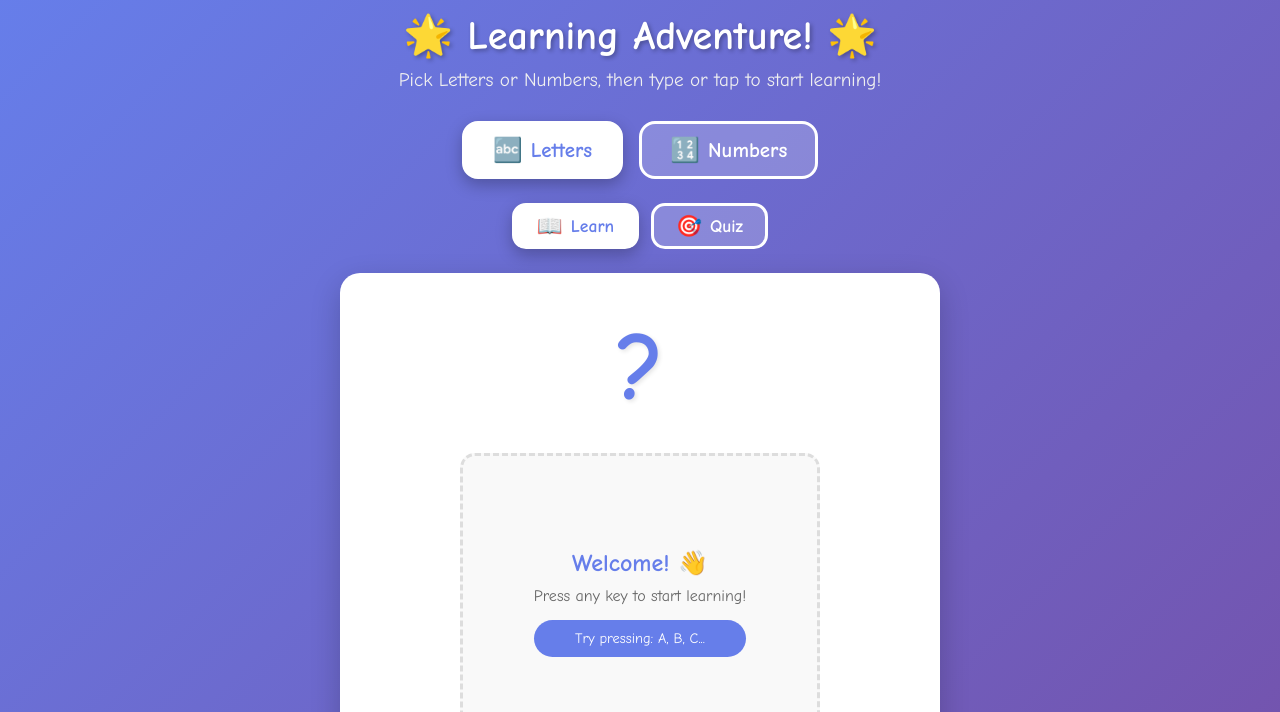
Test: Numbers Learning Mode › Integration — cross-mode and full workflows › mixed keyboard + click interactions accumulate numbers progress
Click the tab "🔢 Numbers".
click(729, 150)  # box [639, 121, 818, 179]
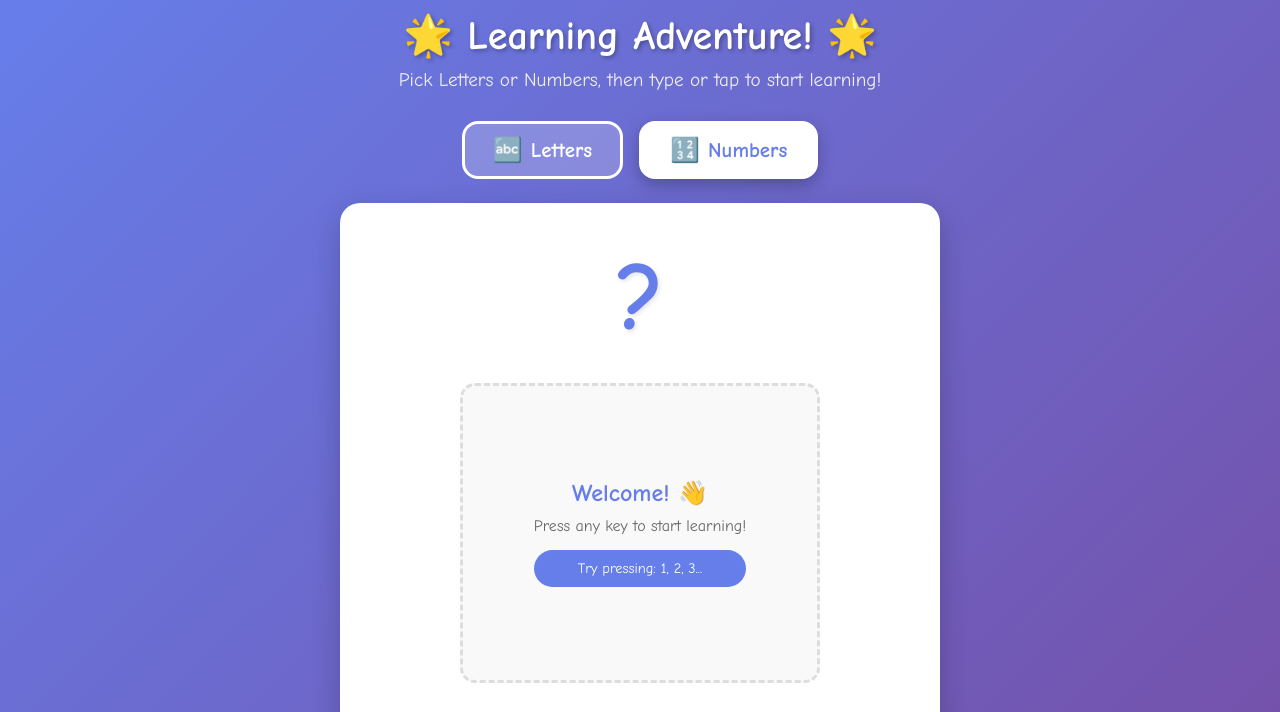
Press 1
(page scrolled)
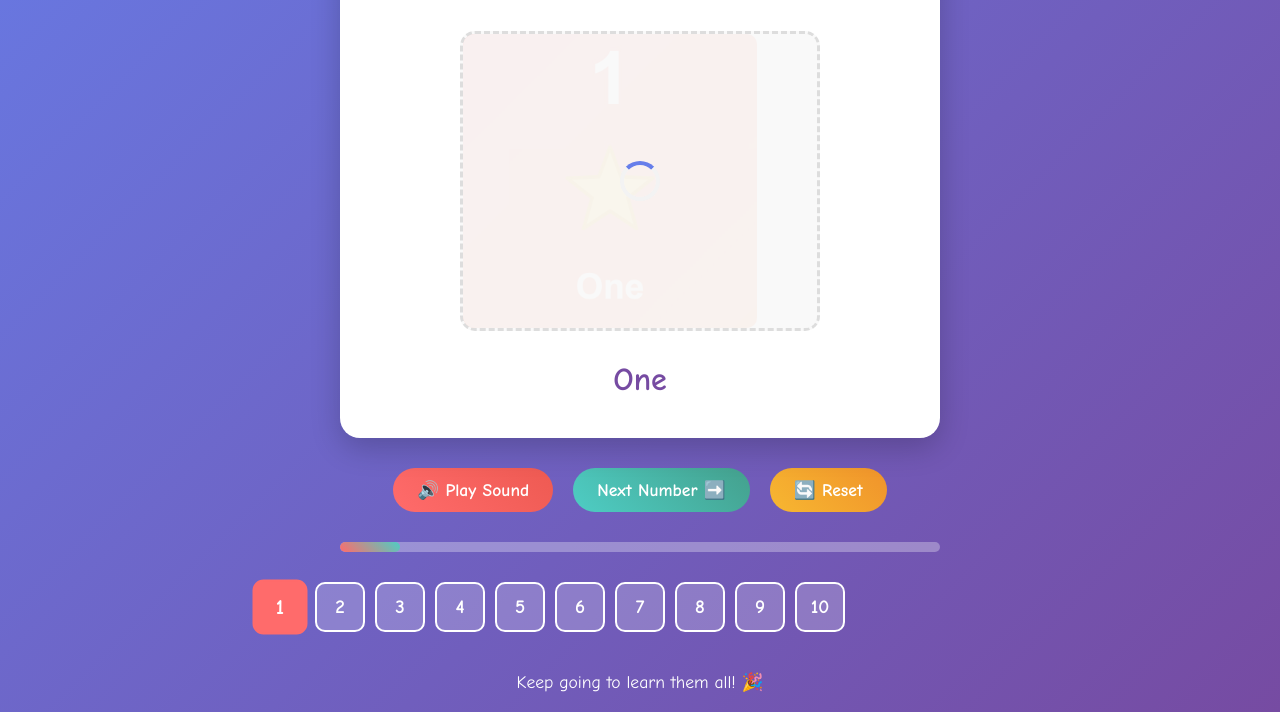
Click the button named "Number 2".
click(340, 607)  # box [315, 582, 365, 632]
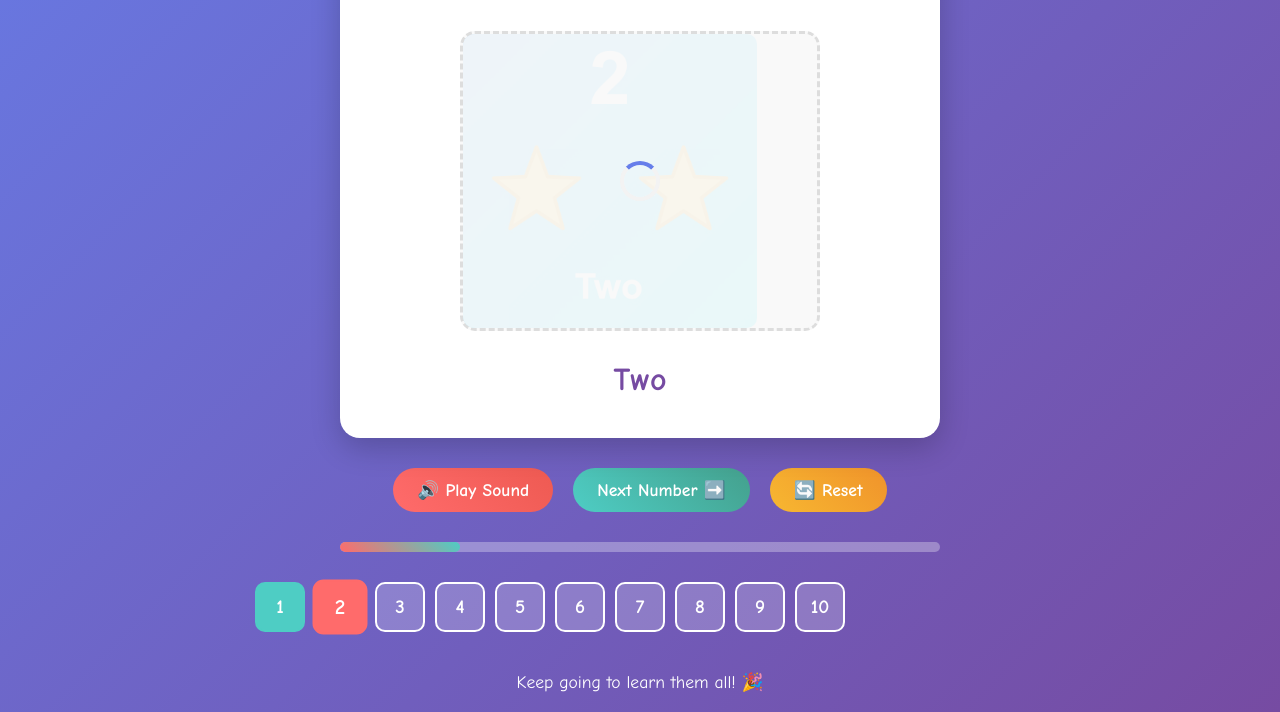
Press 8
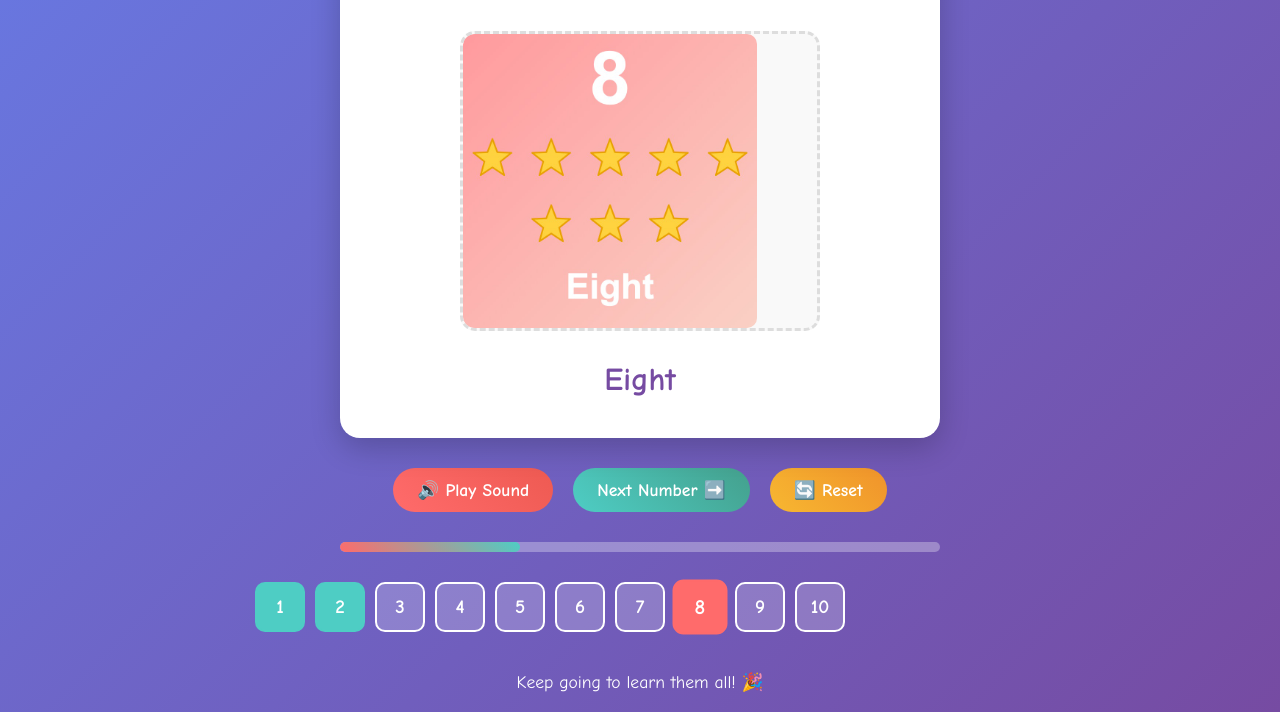
Check: the element named "30% of numbers learned" is shown, box [340, 542, 520, 552]
